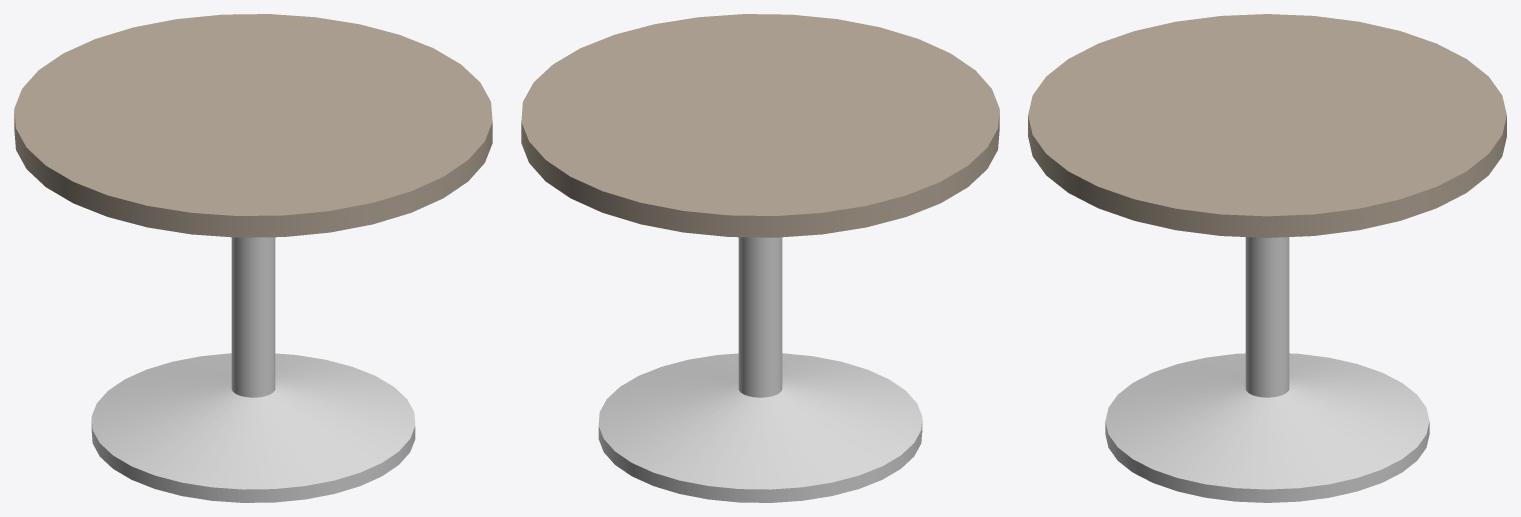
The model's file is TableRonde_9.fbx.
3 renders of one model, left to right at view 1: azimuth 30°, elevation 25°; view 2: azimuth 150°, elevation 25°; view 3: azimuth 270°, elevation 25°, orthographic.
Parts seen in each view (by area): view 1: pCylinder1770; view 2: pCylinder1770; view 3: pCylinder1770.
Part boxes in pixels (x1,y1,x2,y2): pCylinder1770: (14,14,492,502); pCylinder1770: (521,14,999,502); pCylinder1770: (1028,14,1506,502).
Size of the model in its own units: 50.17 by 36.91 by 50.17.
